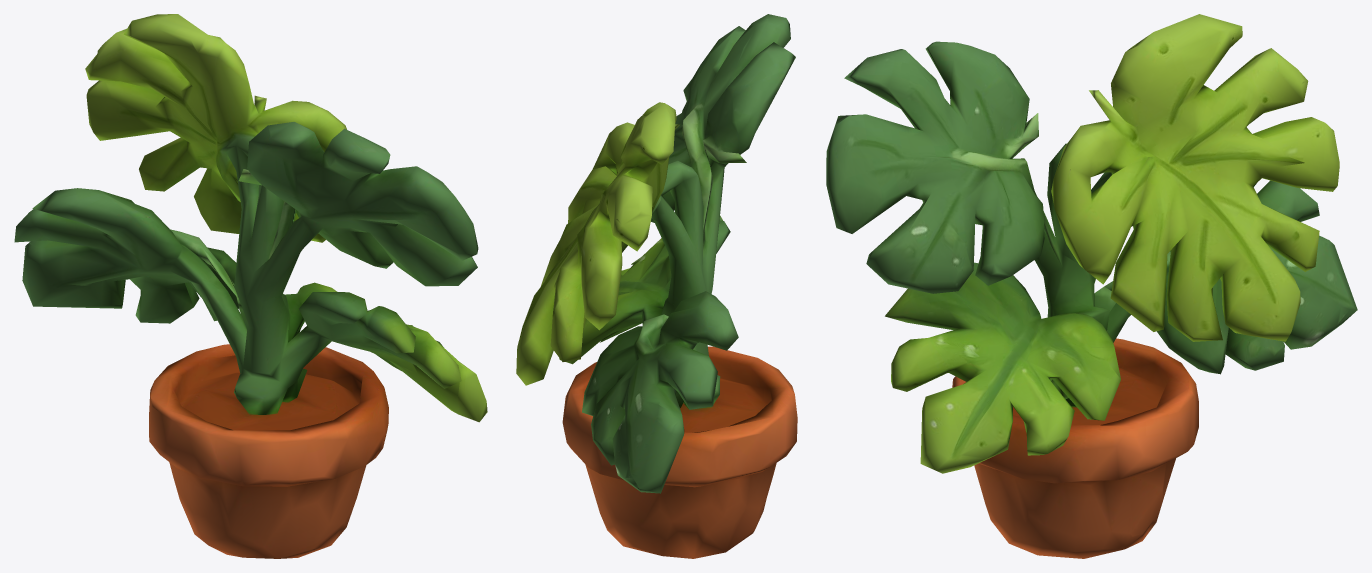
The model's file is plant.glb.
The picture shows the model from 3 angles, left to right: view 1: azimuth 30°, elevation 25°; view 2: azimuth 150°, elevation 25°; view 3: azimuth 270°, elevation 25°; orthographic projection. The views are drawn at different scales.
Visible parts, largest first — view 1: tripo_node_e518945f-0133-4106-a560-52a2a33bdb26; view 2: tripo_node_e518945f-0133-4106-a560-52a2a33bdb26; view 3: tripo_node_e518945f-0133-4106-a560-52a2a33bdb26.
Part boxes in pixels (left/top/right/bottom): tripo_node_e518945f-0133-4106-a560-52a2a33bdb26: left=14, top=14, right=487, bottom=558; tripo_node_e518945f-0133-4106-a560-52a2a33bdb26: left=516, top=14, right=797, bottom=558; tripo_node_e518945f-0133-4106-a560-52a2a33bdb26: left=826, top=14, right=1357, bottom=558.
Bounding box in the file's own units: 0.6471 × 1 × 0.9823.
Materials: 1 (1 with a texture image).
